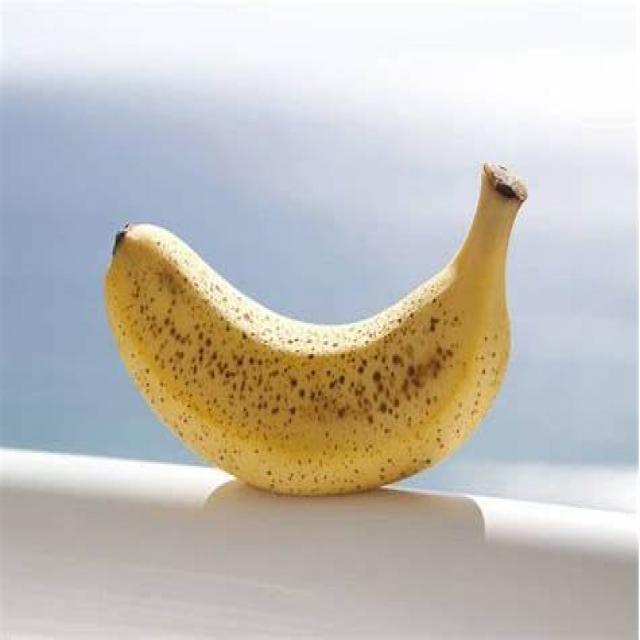Banana: (102, 161, 524, 504)
